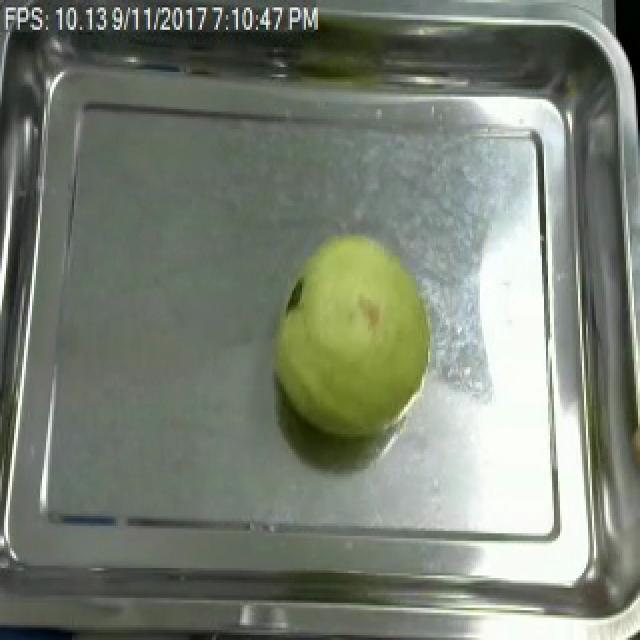Fruit: (262, 223, 440, 447)
